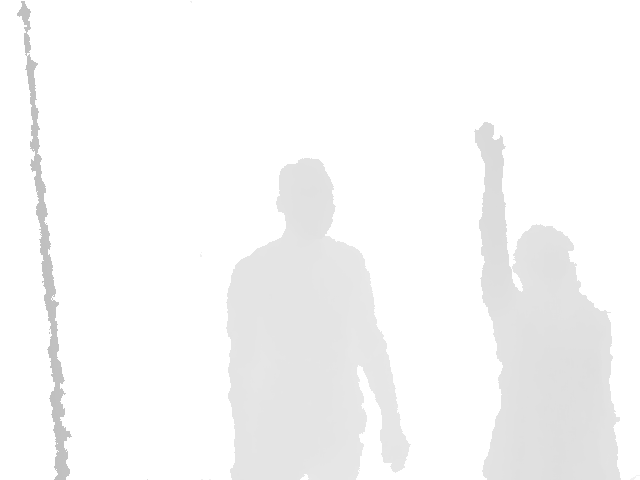hand: (473, 121, 506, 172)
head: (510, 224, 582, 295), (276, 157, 336, 238)
person: (225, 157, 411, 480), (473, 121, 623, 480)
